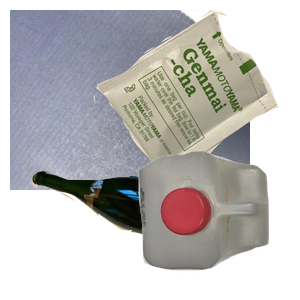cardboard: (10, 10, 250, 190)
glass: (29, 167, 241, 300)
plastic: (136, 149, 300, 300)
trash: (91, 10, 300, 186)
